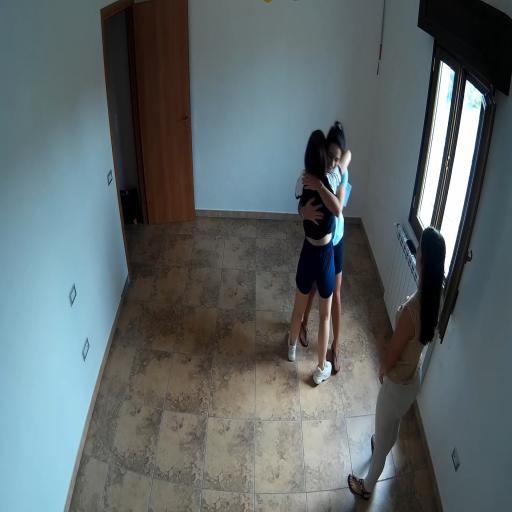nao-violencia: (273, 105, 358, 396)
